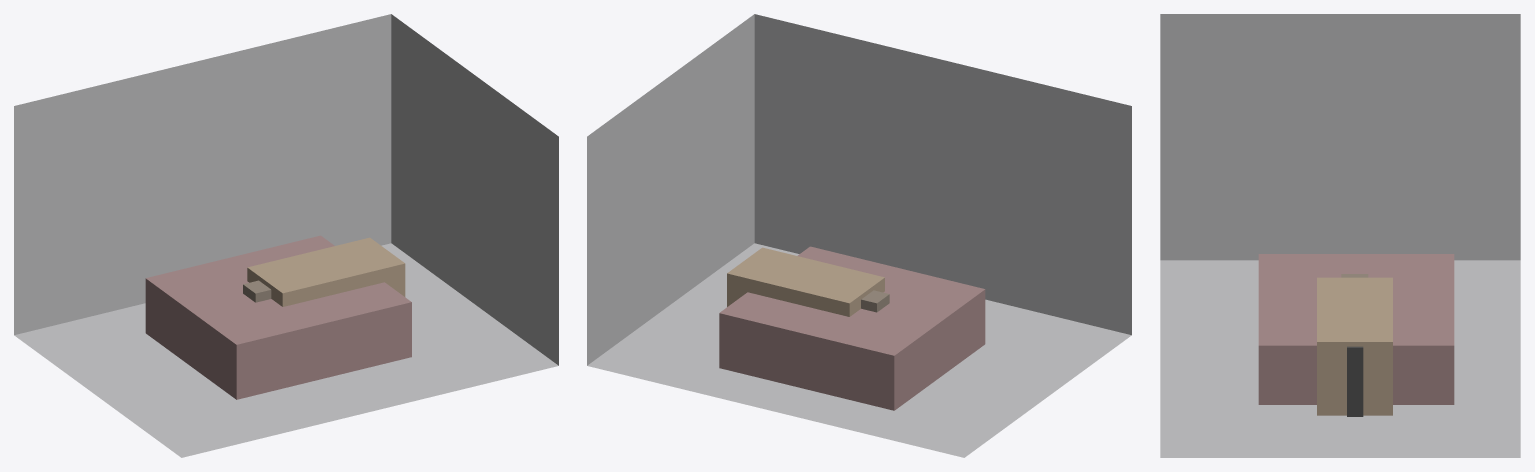
The model's file is current_layout.glb.
3 views of the same model, side by side, from view 1: azimuth 30°, elevation 25°; view 2: azimuth 150°, elevation 25°; view 3: azimuth 270°, elevation 25° (orthographic). The views are drawn at different scales.
Visible parts, largest first — view 1: room, bed, desk; view 2: room, bed, desk; view 3: room, bed, desk, tv.
Part boxes in pixels (box(x1,y1,x2,y2)): room: box(14, 14, 558, 457); bed: box(145, 235, 411, 399); desk: box(247, 237, 405, 306); room: box(587, 14, 1131, 457); bed: box(719, 246, 985, 410); desk: box(727, 247, 884, 316); room: box(1160, 14, 1520, 457); bed: box(1258, 254, 1454, 404); desk: box(1317, 277, 1392, 415); tv: box(1347, 346, 1363, 416).
Bounding box in the file's own units: 4.31 × 2.5 × 3.31.
